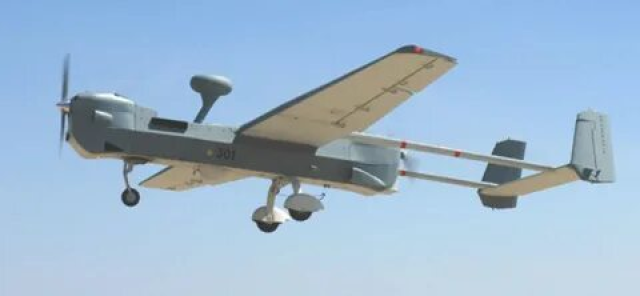military drone: (55, 43, 616, 233)
